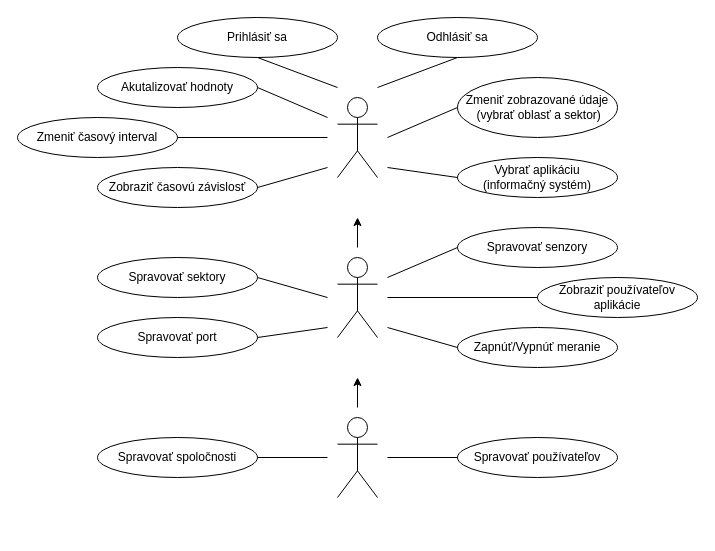
The diagram is 715 pixels wide and 551 high, and some of its shapes have lost their labels. Each missing label, with the box of its shape:
Auth API Admin: (336, 416, 378, 498)
Manage API Admin: (336, 256, 378, 338)
Používateľ: (336, 96, 378, 178)
